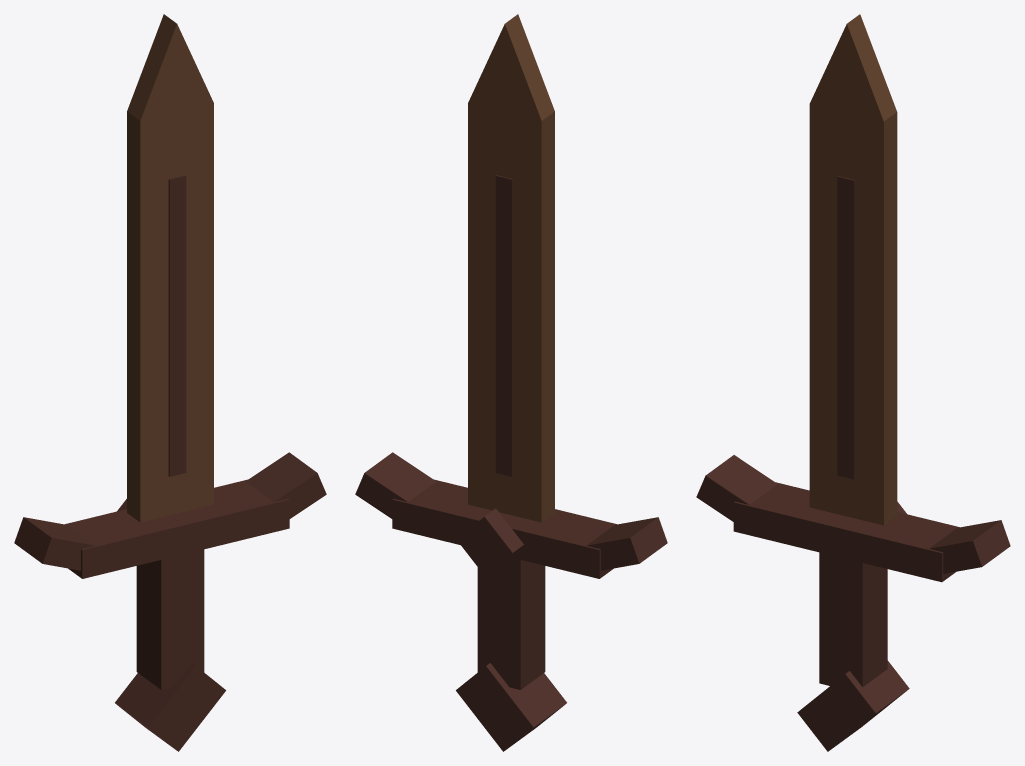
File: training_sword.glb
3 renders of one model, left to right at view 1: azimuth 30°, elevation 25°; view 2: azimuth 150°, elevation 25°; view 3: azimuth 330°, elevation 25°, orthographic.
Parts seen in each view (by area): view 1: training_sword; view 2: training_sword; view 3: training_sword.
Part boxes in pixels (bbox=[...]): training_sword: bbox=[14, 14, 326, 751]; training_sword: bbox=[355, 14, 667, 751]; training_sword: bbox=[696, 14, 1010, 751].
Size of the model in its own units: 1.85 by 4.47 by 0.495.
